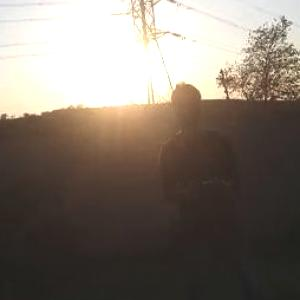follow: (152, 78, 247, 299)
